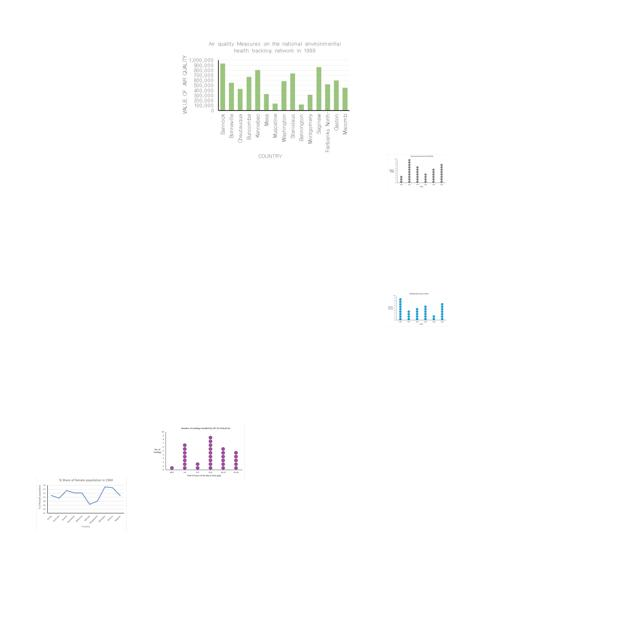Graph: (177, 38, 353, 163), (151, 425, 245, 479), (36, 476, 127, 531), (386, 291, 448, 327), (387, 154, 447, 189)
